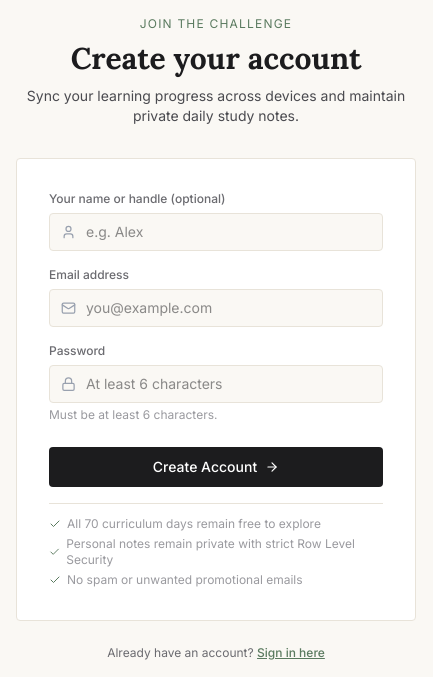
Test case: Authentication Pages & Flows › SignUpPage › shows dedicated confirmation screen with entered email and spam folder tip when verification is required
The width and height of the screenshot is (433, 677).
Type "learner.jane@example.com" into the field with placeholder "you@example.com" at (216, 308), box [49,288,383,326]
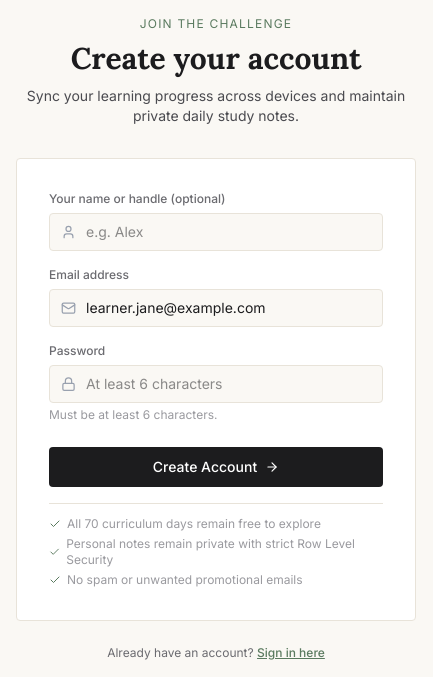
Type "securepassword123" into the password field with placeholder "At least 6 characters" at (216, 384), box [49,364,383,402]
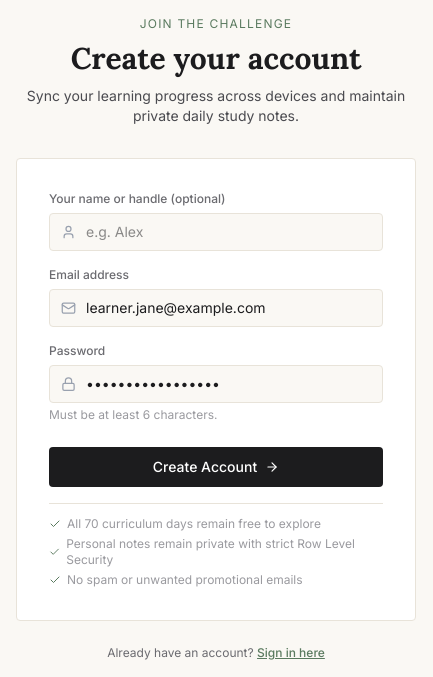
Click the button "Create Account" at (216, 466), box [49,446,383,486]
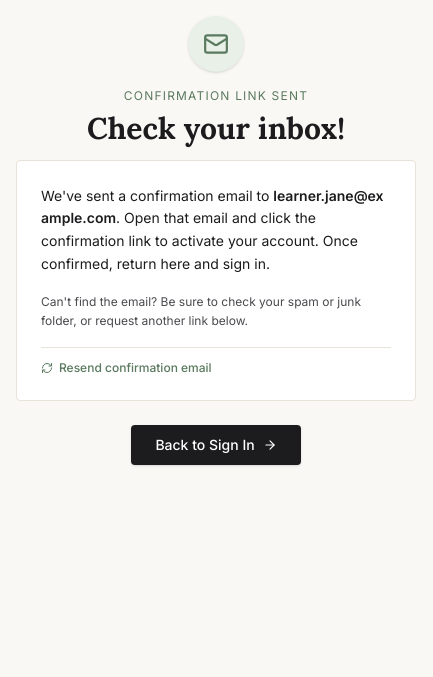
Check: the heading "Check your inbox!" is shown, box [87,109,345,147]
Check: the text "learner.jane@example.com" is shown, box [41,186,384,226]
Check: the text "check your spam or junk folder" is shown, box [41,294,361,328]
